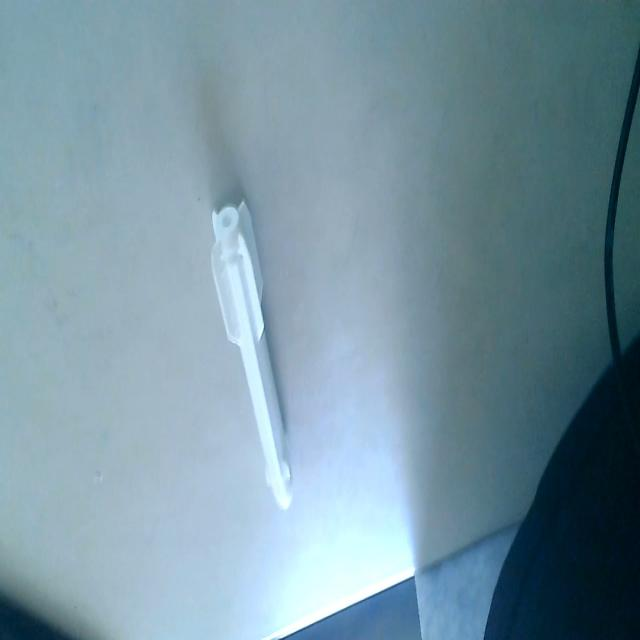Rocket: (209, 191, 294, 515)
